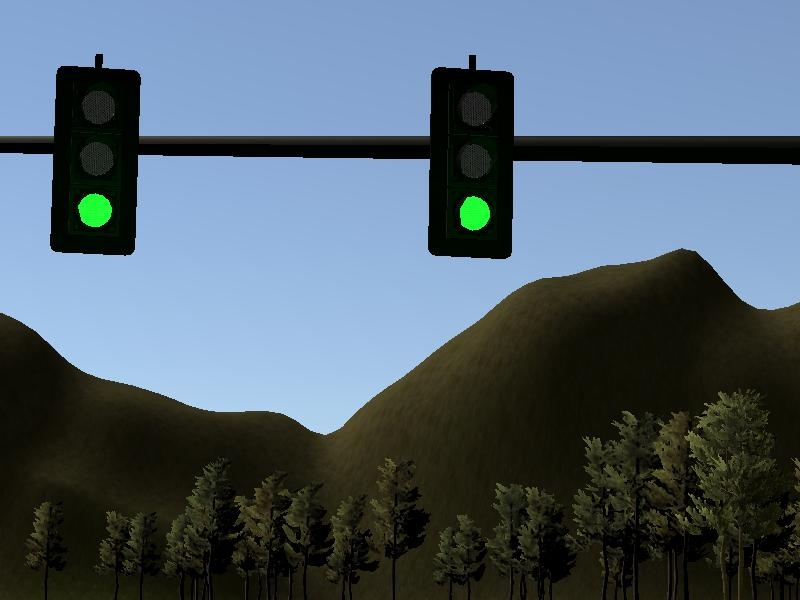GREEN: (52, 65, 141, 256), (429, 68, 514, 258)
